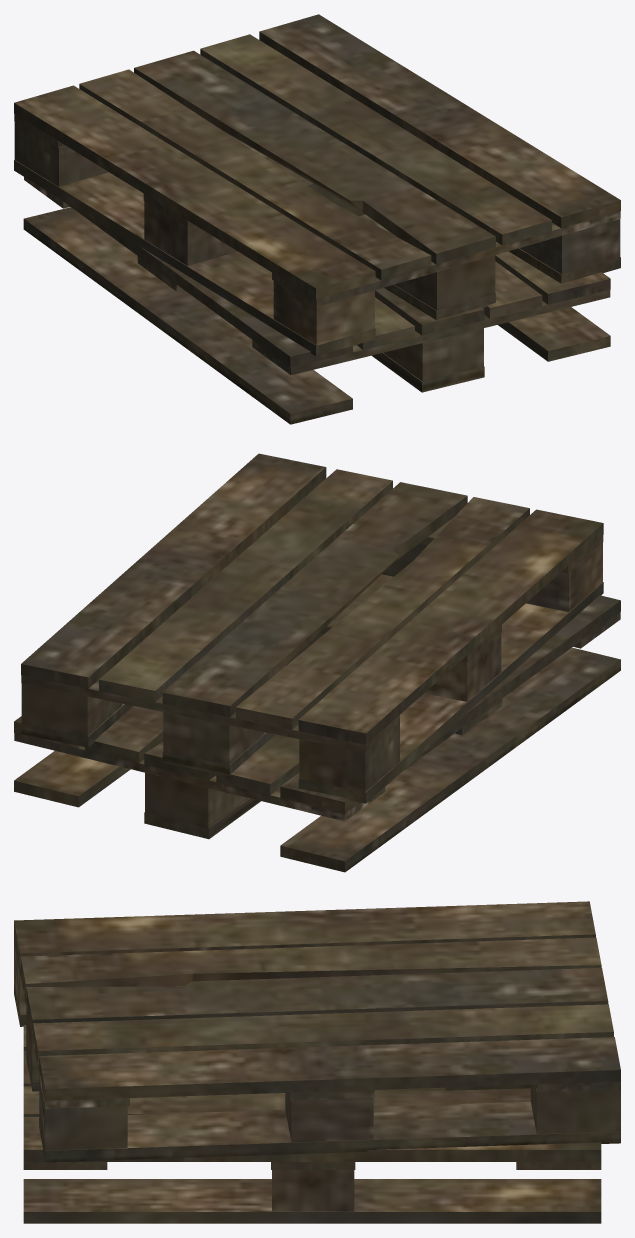
3 renders of one model, top to bottom at view 1: azimuth 30°, elevation 25°; view 2: azimuth 150°, elevation 25°; view 3: azimuth 270°, elevation 25°, orthographic. The views are drawn at different scales.
Parts seen in each view (by area): view 1: palet2; view 2: palet2; view 3: palet2.
Boxes of the visible parts, left/top/right/bottom form: palet2: left=14, top=14, right=620, bottom=424; palet2: left=14, top=453, right=620, bottom=872; palet2: left=14, top=901, right=620, bottom=1223.
Bounding box in the file's own units: 0.8778 × 0.3167 × 1.2.
1 material, 1 textured.
